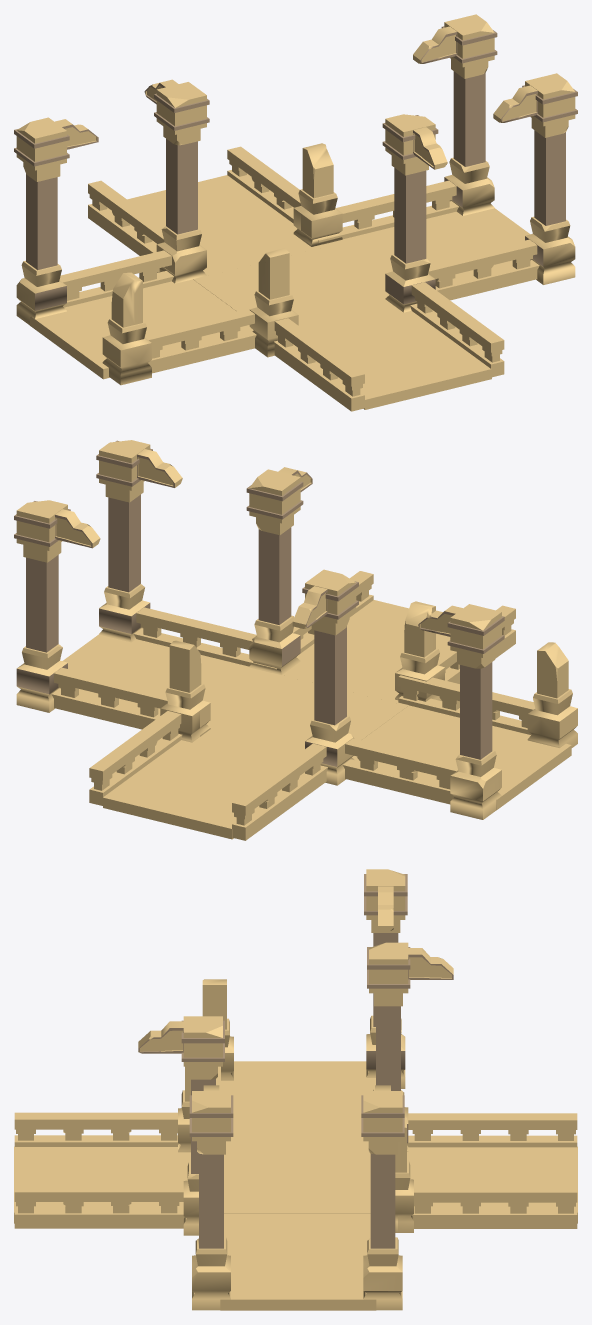
The model's file is Platform_FourWay.fbx.
3 views of the same model, one above another, from view 1: azimuth 30°, elevation 25°; view 2: azimuth 150°, elevation 25°; view 3: azimuth 270°, elevation 25° (orthographic). The views are drawn at different scales.
Parts seen in each view (by area): view 1: pCube17.037; view 2: pCube17.037; view 3: pCube17.037.
Boxes of the visible parts, x1=… form: pCube17.037: x1=14, y1=14, x2=577, y2=411; pCube17.037: x1=14, y1=440, x2=577, y2=840; pCube17.037: x1=14, y1=869, x2=577, y2=1310.
Bounding box in the file's own units: 323 × 129 × 321.
